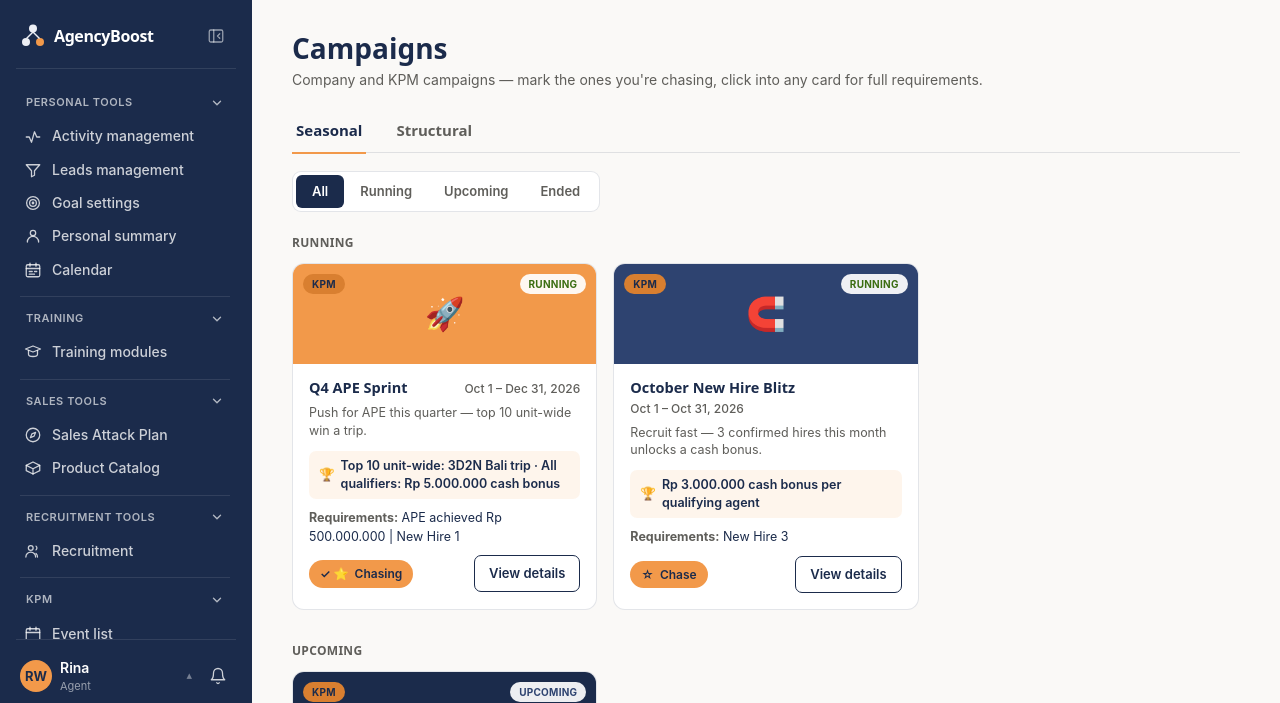
Test: /campaigns, the list (P18.5-T7) › the card (AC-3) › P18.5-T7 AC-3 Promotion path over a promotion’s title, and nowhere else
The width and height of the screenshot is (1280, 703).
Click the tab "Structural" at {"x": 434, "y": 132}, box 392,110 -> 476,154
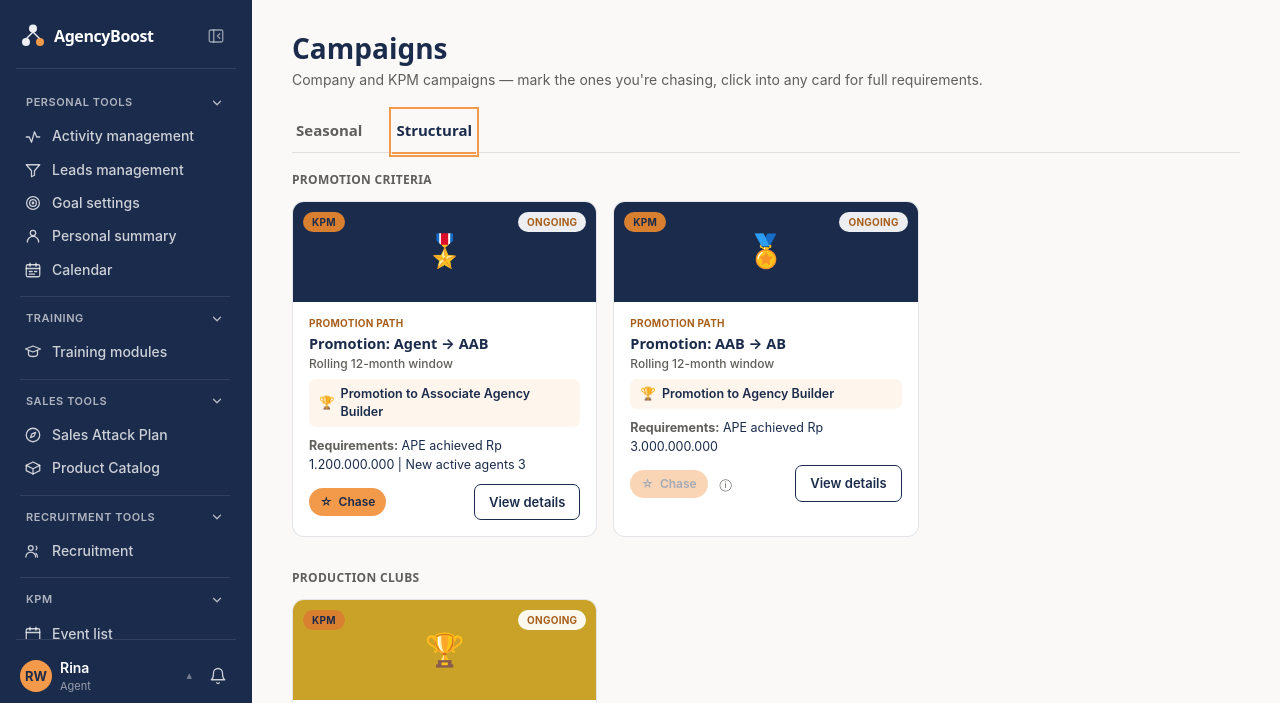
expect the text "Rolling 12-month window" below "Promotion: Agent → AAB" is shown: met, box 309,356 -> 453,372
